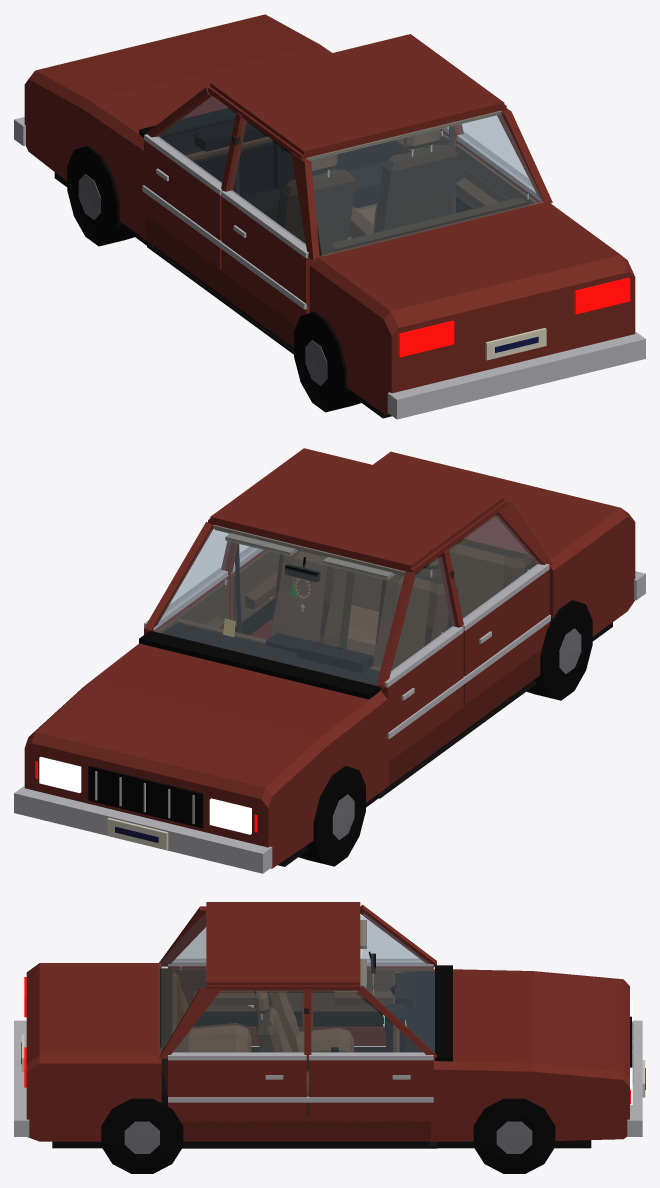
Rendered from car.glb.
3 views of the same model, one above another, from view 1: azimuth 30°, elevation 25°; view 2: azimuth 150°, elevation 25°; view 3: azimuth 270°, elevation 25° (orthographic). The views are drawn at different scales.
Parts seen in each view (by area): view 1: car_body; view 2: car_body; view 3: car_body.
Boxes of the visible parts, box(x1,y1,x2,y2) form: car_body: box(14, 14, 645, 419); car_body: box(14, 448, 645, 873); car_body: box(14, 902, 645, 1173).
Size of the model in its own units: 1.88 by 1.56 by 4.92.
